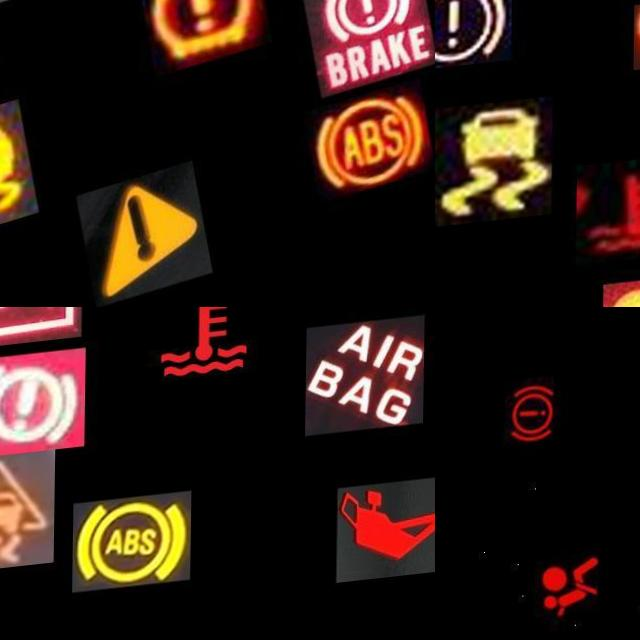Central Warning lamp: (75, 166, 215, 307)
Engine cooling system: (145, 307, 265, 405), (577, 164, 640, 274)
